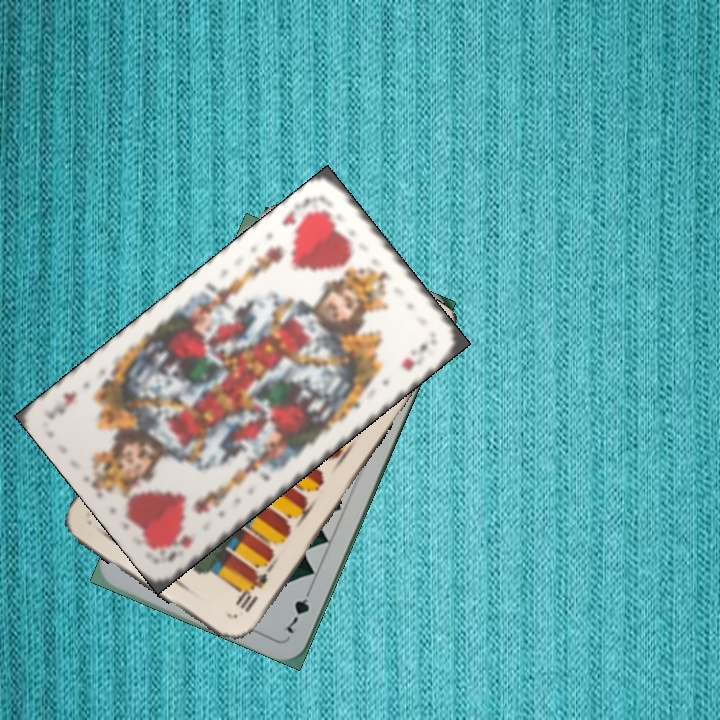E10: (232, 568, 270, 615)
G7: (282, 582, 315, 637)
HK: (278, 192, 327, 235), (158, 530, 196, 565)
